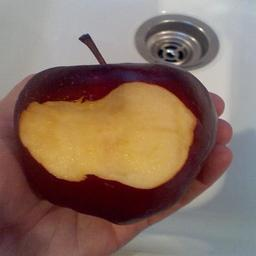apple: (13, 61, 218, 225)
